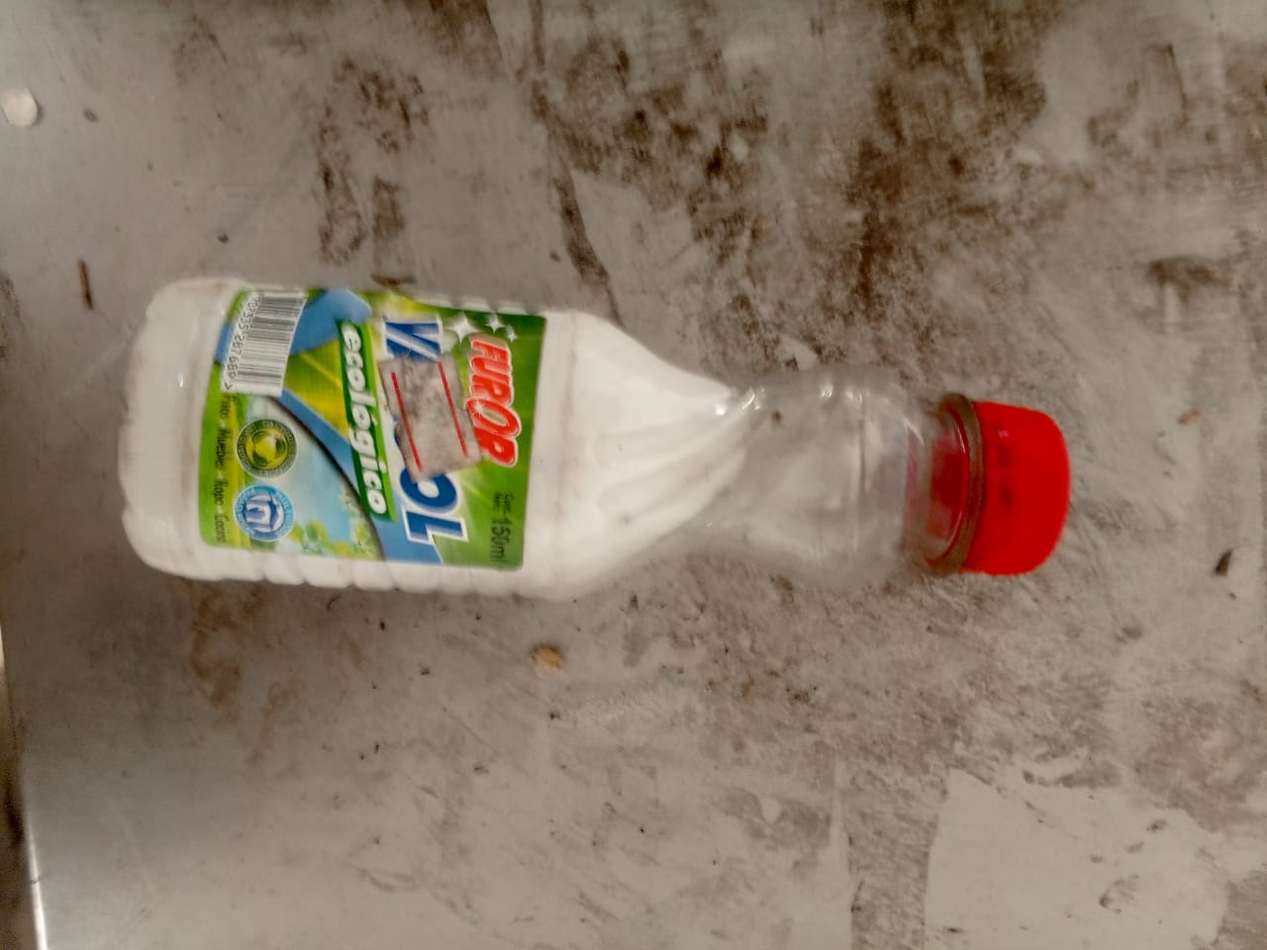Plastico: (118, 281, 1070, 600)
